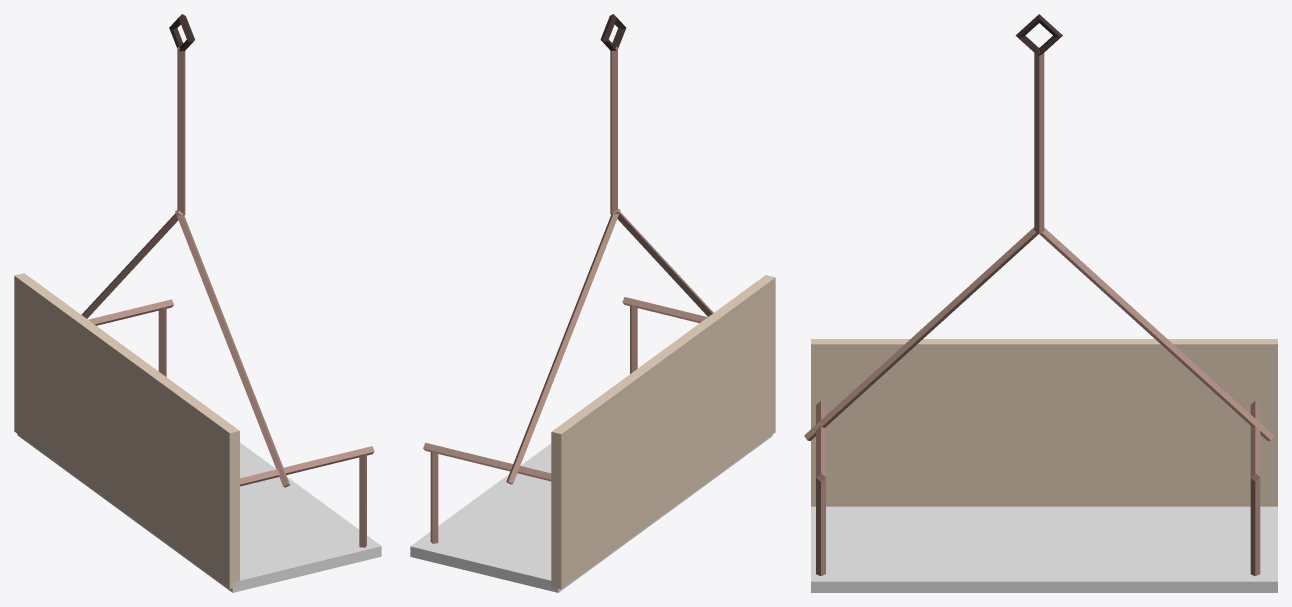
Rendered from SkiLift.fbx.
3 renders of one model, left to right at view 1: azimuth 30°, elevation 25°; view 2: azimuth 150°, elevation 25°; view 3: azimuth 270°, elevation 25°, orthographic. The views are drawn at different scales.
Visible parts, largest first — view 1: Cube.001, Cylinder.002, Torus; view 2: Cube.001, Cylinder.002, Torus; view 3: Cube.001, Cylinder.002, Torus.
Boxes of the visible parts, x1=… form: Cube.001: x1=14, y1=273, x2=381, y2=592; Cylinder.002: x1=81, y1=47, x2=374, y2=547; Torus: x1=169, y1=14, x2=194, y2=51; Cube.001: x1=410, y1=275, x2=775, y2=592; Cylinder.002: x1=423, y1=47, x2=713, y2=543; Torus: x1=600, y1=14, x2=626, y2=50; Cube.001: x1=811, y1=339, x2=1277, y2=592; Cylinder.002: x1=804, y1=47, x2=1273, y2=576; Torus: x1=1015, y1=14, x2=1062, y2=55.
Size of the model in its own units: 132 by 404 by 328.
